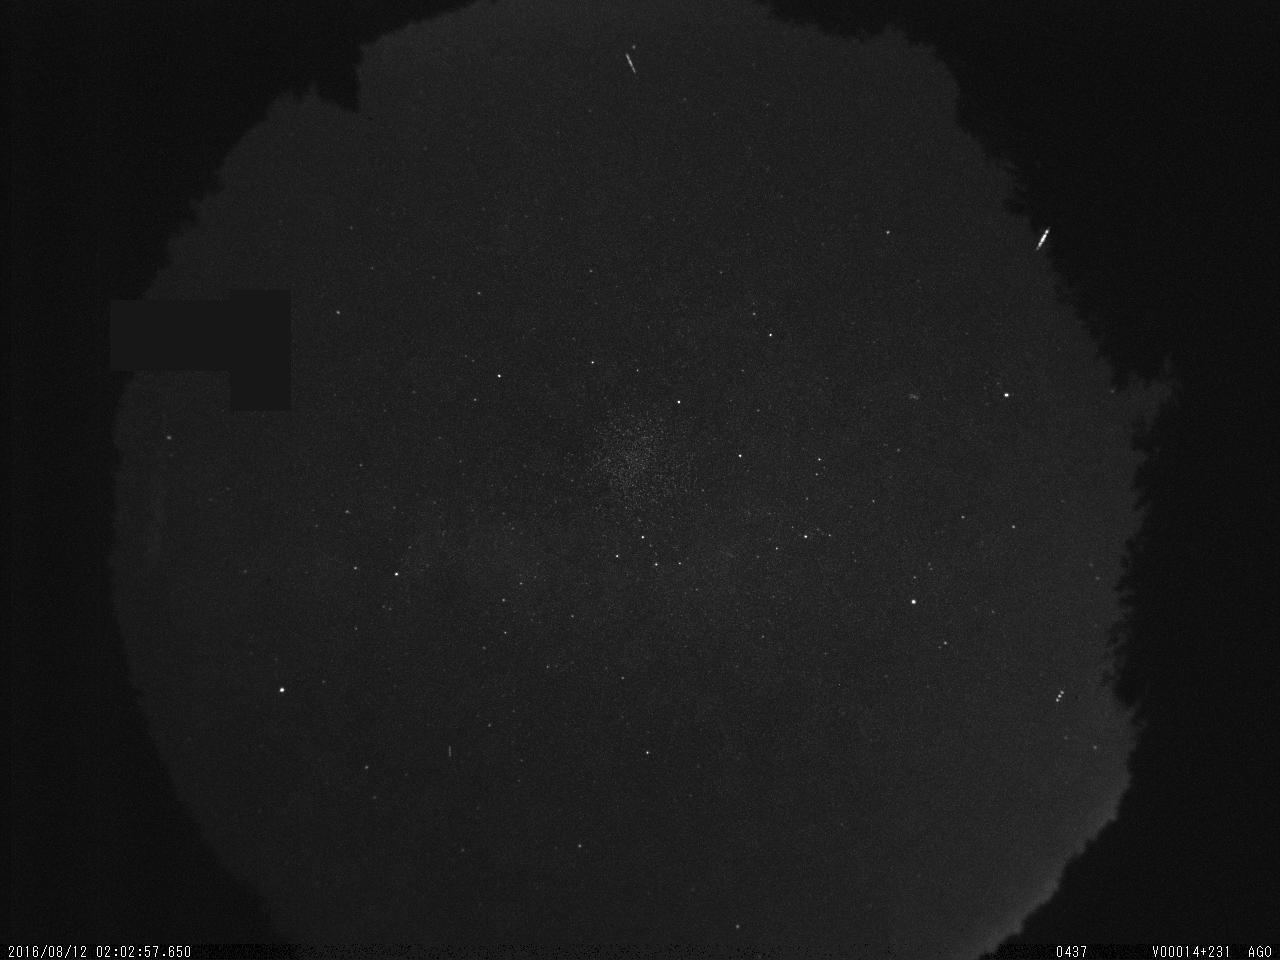meteor: (617, 52, 641, 79)
